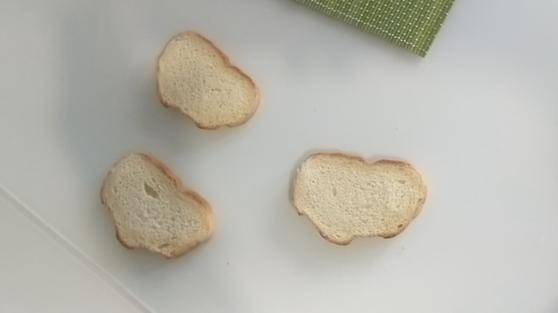white_bread: (290, 151, 429, 245), (102, 148, 214, 258), (154, 31, 260, 133)
